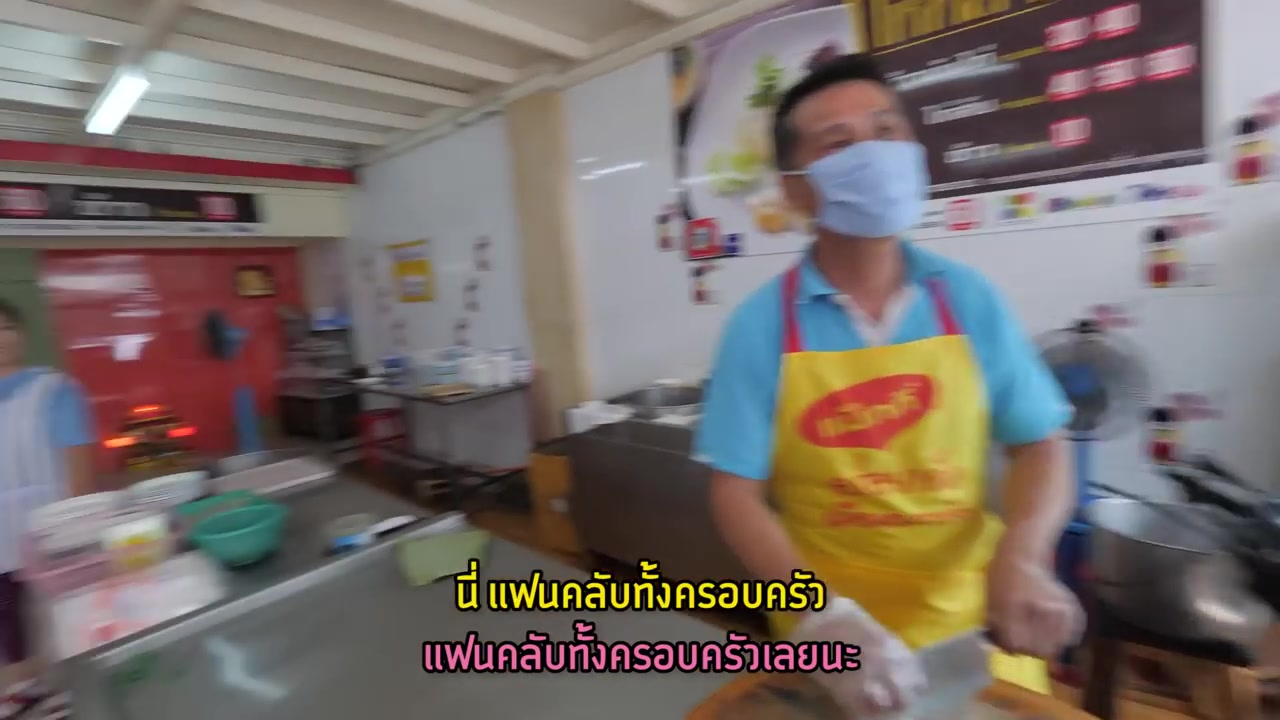text-label: (420, 618, 863, 672), (449, 554, 827, 613)
